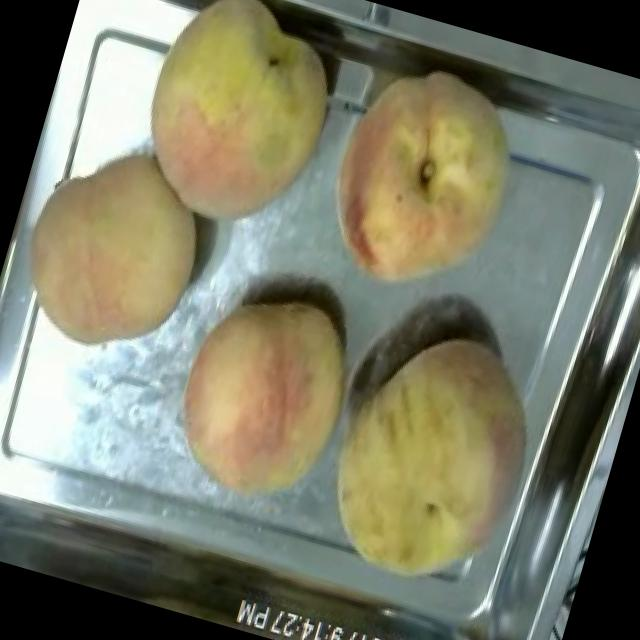Fruit: (289, 299, 577, 620), (293, 40, 541, 321), (108, 0, 367, 257), (148, 267, 378, 528), (0, 120, 231, 376)
